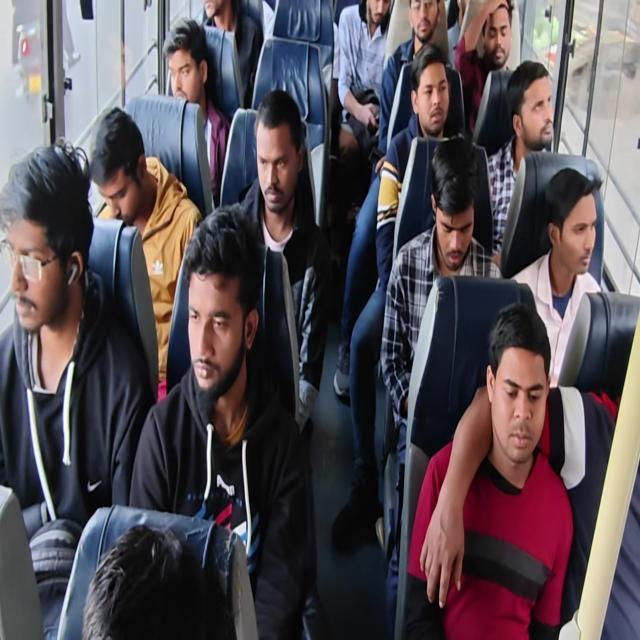person: (81, 512, 238, 640), (0, 134, 93, 340), (170, 212, 261, 390), (487, 299, 548, 464), (422, 138, 484, 271), (86, 98, 150, 221), (538, 163, 604, 282), (252, 82, 308, 207), (506, 59, 564, 156), (409, 31, 460, 133), (158, 17, 215, 96), (474, 0, 517, 68), (408, 0, 436, 46), (365, 0, 390, 30), (200, 0, 230, 21), (455, 1, 467, 22)
